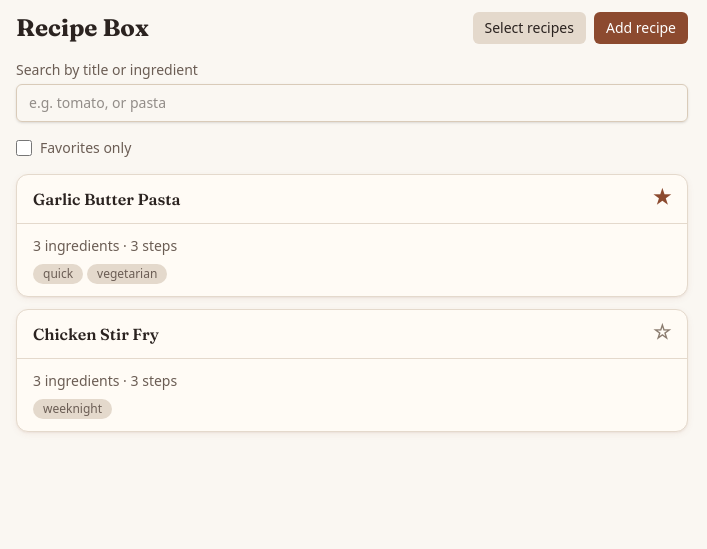
Scenario: RecipeBox selection mode (TEST-153) › shows how many recipes are selected (AC2)
The image size is (707, 549).
Expected: the text "Garlic Butter Pasta" is shown, [33,187,180,211]
Click the button "Select recipes".
click(529, 28)  # box [472,12,586,44]
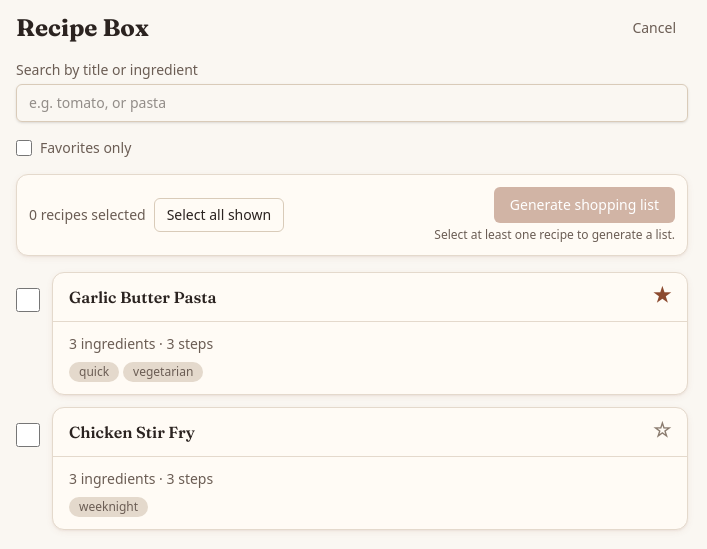
Now the text "0 recipes selected" is shown, box [29,205,146,225]
Click the checkbox named "Garlic Butter Pasta".
click(28, 300)  # box [16,288,40,312]
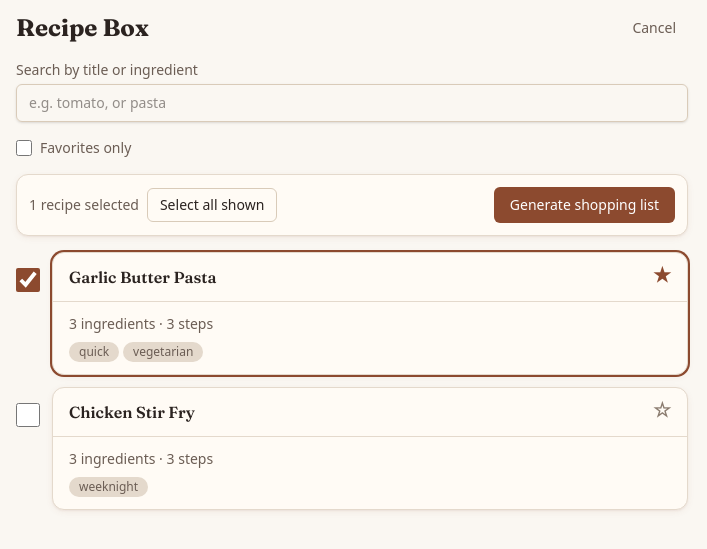
Now the text "1 recipe selected" is shown, box [29,195,139,215]
Click the checkbox named "Chicken Stir Fry".
click(28, 415)  # box [16,403,40,427]
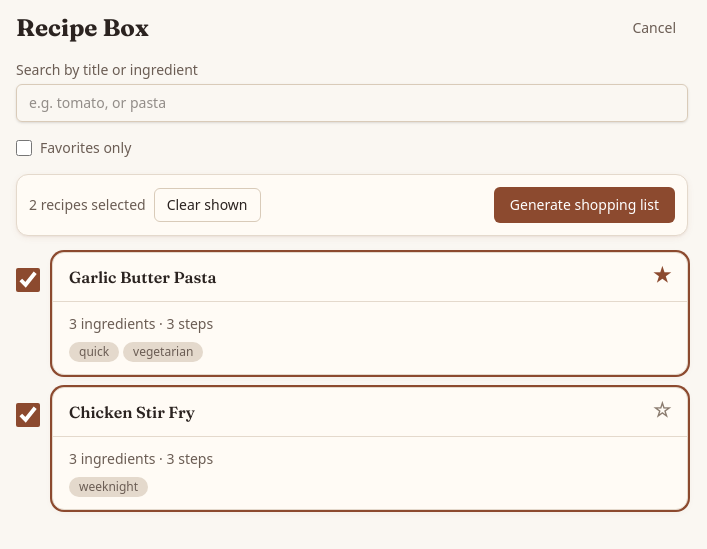
Now the text "2 recipes selected" is shown, box [29,195,146,215]
